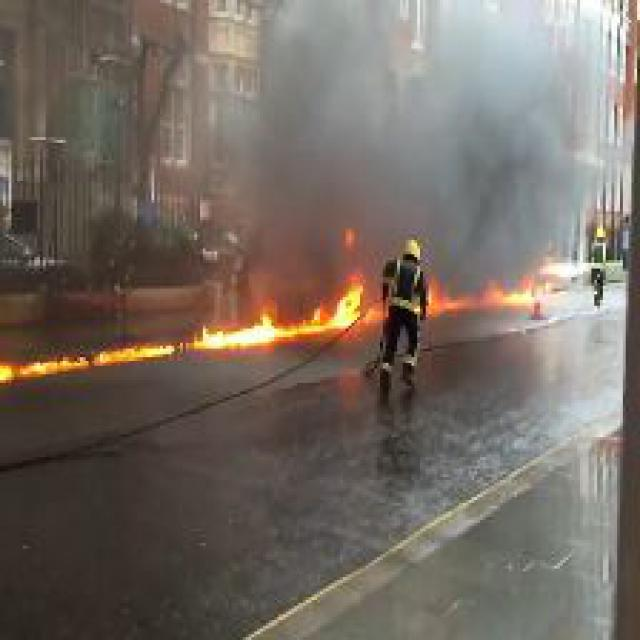fire: (3, 232, 366, 392), (423, 251, 557, 326)
